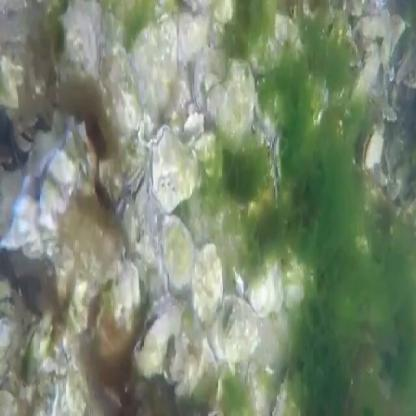3: (13, 122, 97, 259), (138, 295, 181, 378), (216, 298, 260, 362), (370, 56, 389, 102), (15, 129, 33, 154)
Oyster- Indeterminate: (93, 261, 141, 389), (146, 127, 198, 211), (188, 45, 225, 114), (192, 129, 220, 174), (0, 57, 23, 109), (362, 128, 384, 172), (269, 136, 282, 185), (128, 159, 145, 192), (1, 383, 18, 416), (396, 54, 408, 86), (390, 64, 396, 80)
Oyster-Closed: (126, 18, 178, 138), (209, 59, 255, 145), (161, 215, 195, 292), (192, 244, 223, 328), (245, 260, 283, 316), (256, 80, 284, 132), (249, 37, 285, 75), (382, 16, 405, 65), (273, 368, 296, 416), (353, 13, 390, 38), (214, 0, 232, 22), (379, 101, 397, 123)
